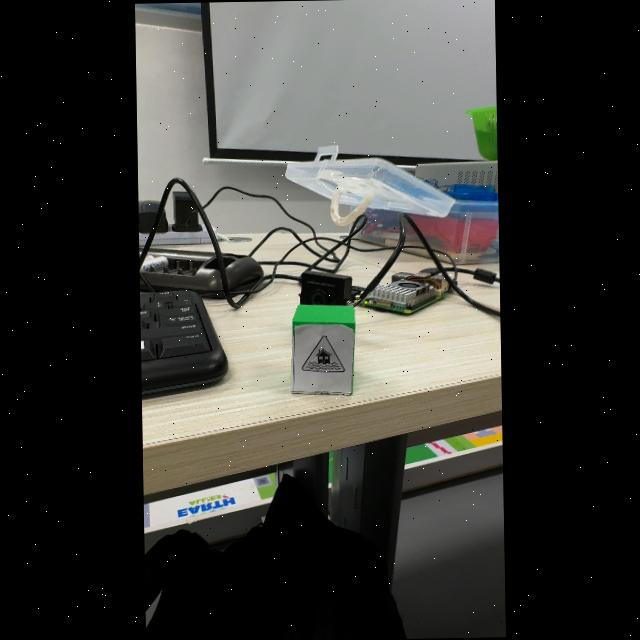Tsunami: (301, 336, 343, 372)
